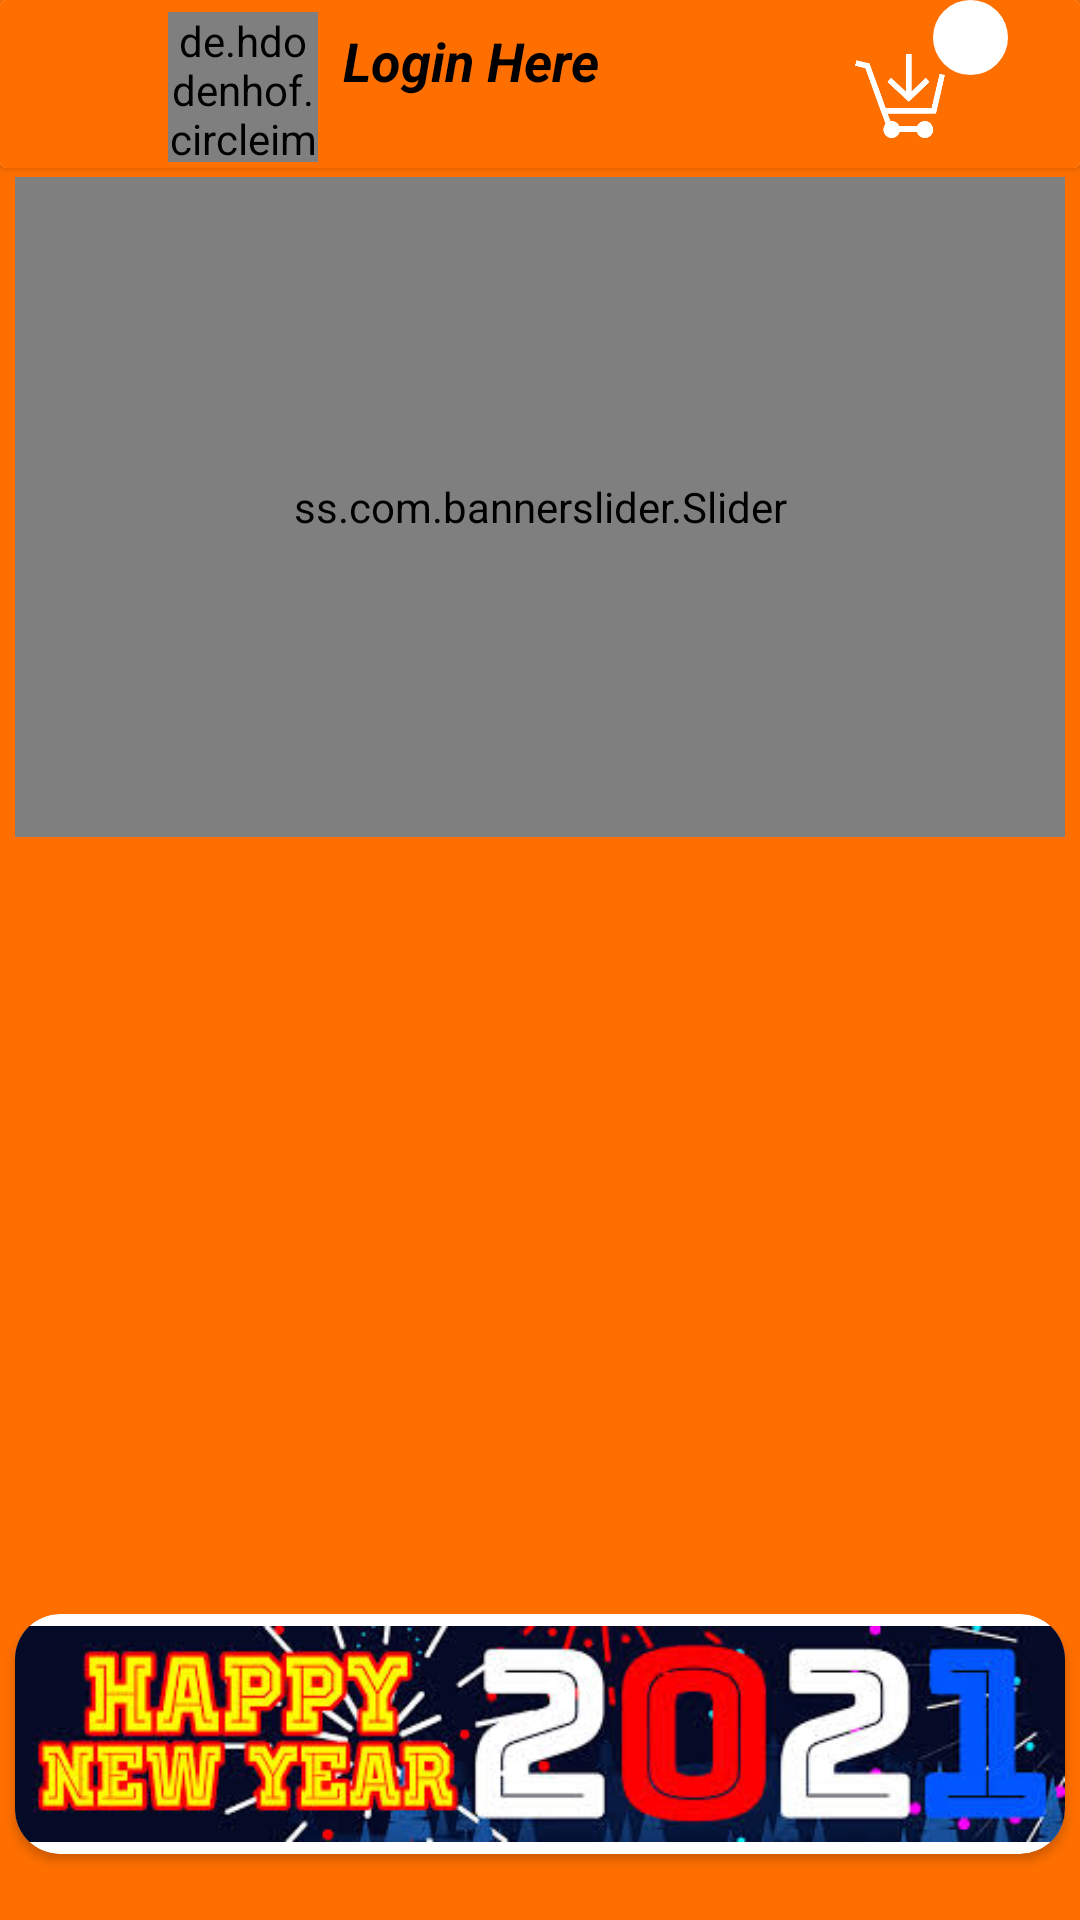

Point at icon controls on the screen. Image size 1080px×1920px, points as [x,y].
cart xxl: [900,96]
